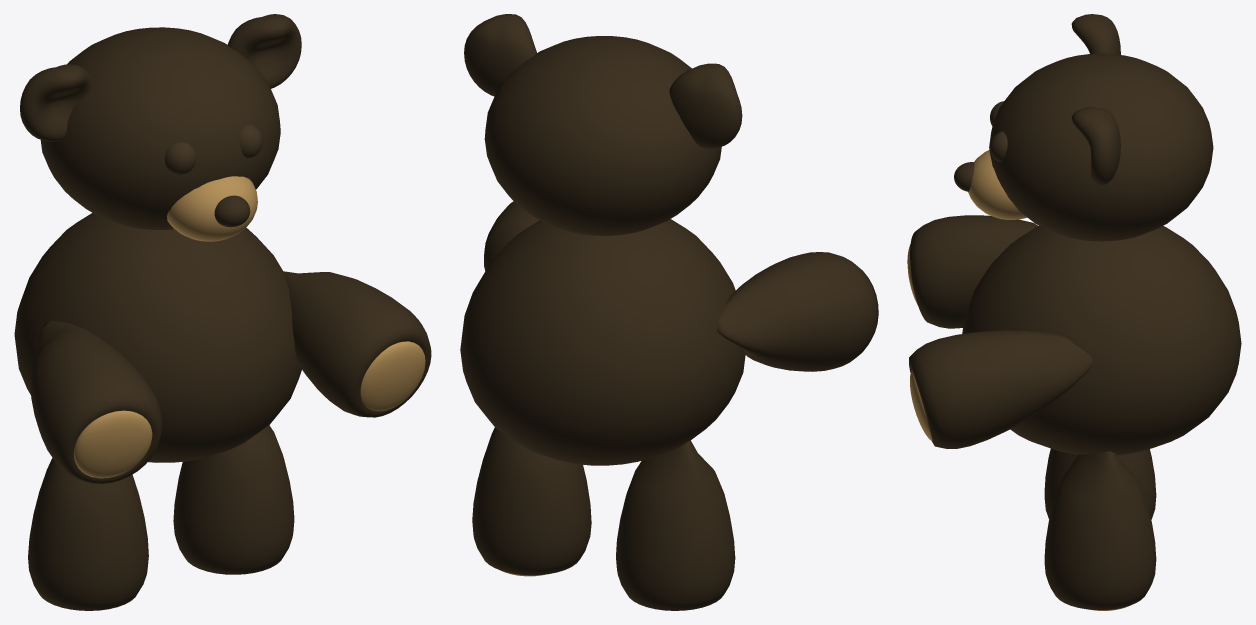
File: Beruang.fbx
The picture shows the model from 3 angles, left to right: view 1: azimuth 30°, elevation 25°; view 2: azimuth 150°, elevation 25°; view 3: azimuth 270°, elevation 25°; orthographic projection. The views are drawn at different scales.
Visible parts, largest first — view 1: Full Body.001; view 2: Full Body.001; view 3: Full Body.001.
Boxes of the visible parts, x1,y1,x2,y2 form: Full Body.001: [14, 14, 431, 610]; Full Body.001: [460, 14, 878, 610]; Full Body.001: [907, 14, 1241, 610].
Bounding box in the file's own units: 356 × 496 × 298.
